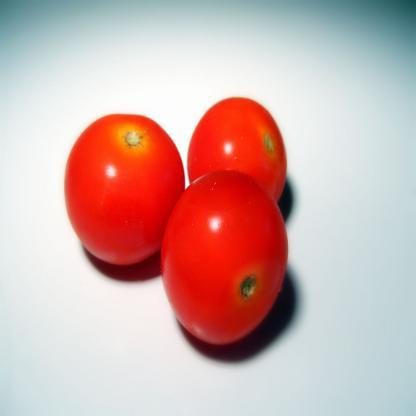tomato: (158, 164, 298, 352), (62, 110, 188, 272), (183, 92, 288, 214)
